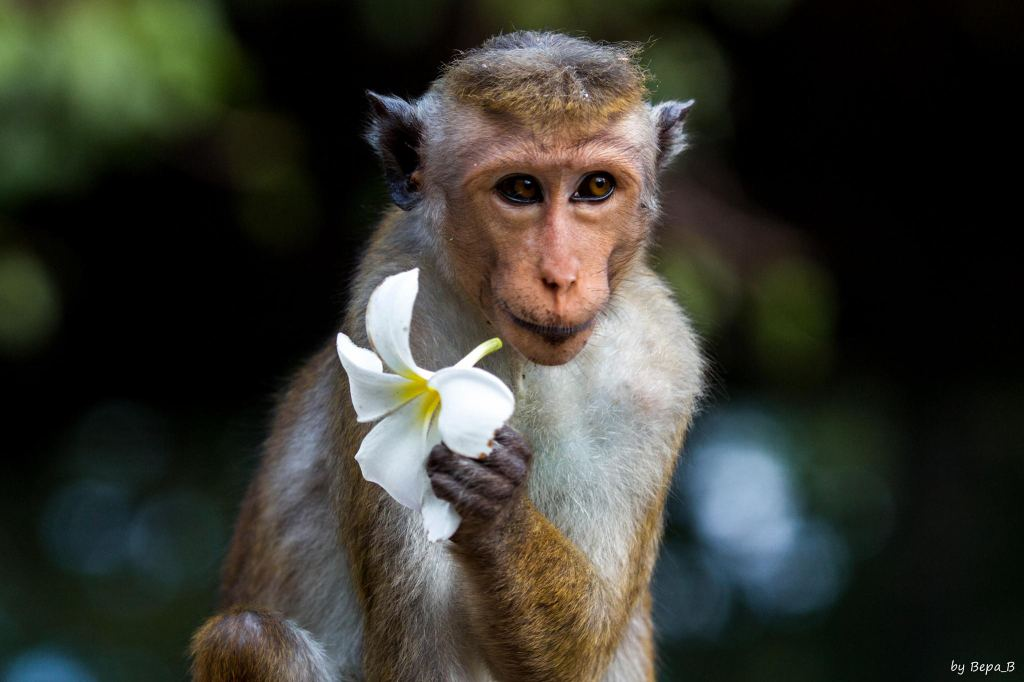monkey: (192, 9, 753, 655)
